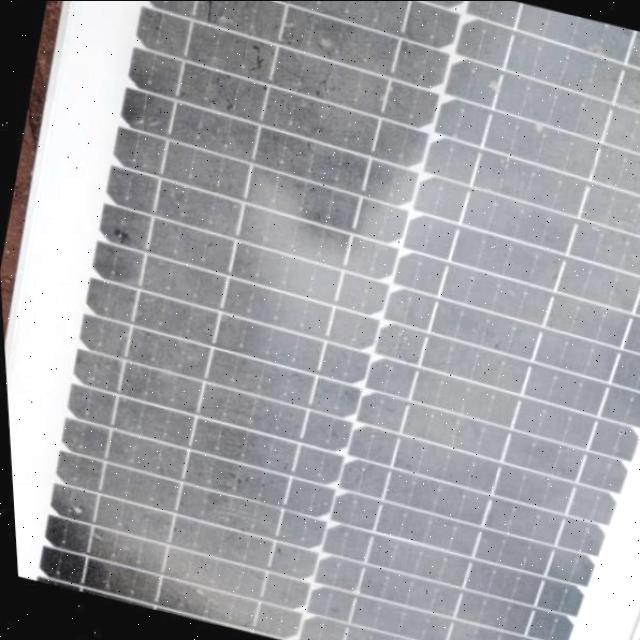Surface Contaminant: (6, 0, 640, 640)
